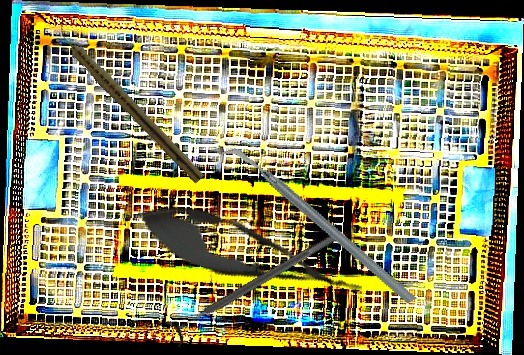Chopper: (217, 102, 420, 350)
Fixation Ring: (163, 222, 345, 349)
Handpiece: (50, 22, 209, 185)
Micro Scissor: (127, 189, 371, 319)
